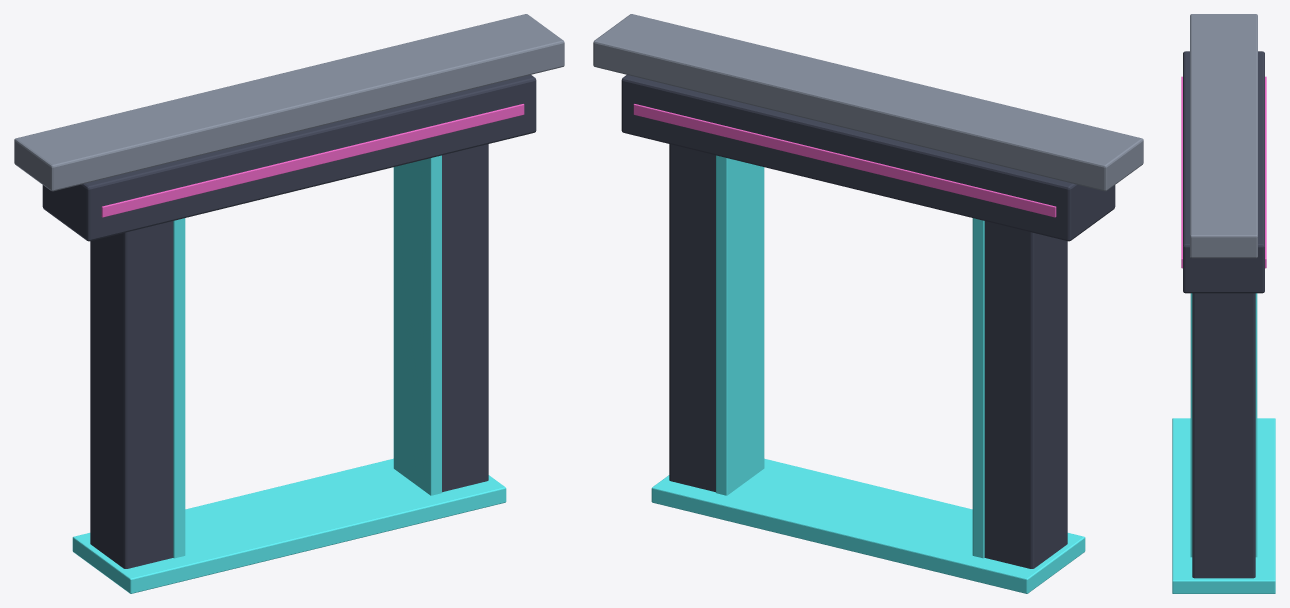
Rendered from Goal_Portal.fbx.
3 renders of one model, left to right at view 1: azimuth 30°, elevation 25°; view 2: azimuth 150°, elevation 25°; view 3: azimuth 270°, elevation 25°, orthographic. The views are drawn at different scales.
Parts seen in each view (by area): view 1: Portal_TopCrown, Portal_Pillar_-1, Portal_TopBeam, Portal_BaseThreshold, Portal_Trim_1, Portal_Pillar_1, Portal_TopNeon, Portal_Trim_-1; view 2: Portal_TopCrown, Portal_Pillar_-1, Portal_TopBeam, Portal_BaseThreshold, Portal_Trim_1, Portal_Pillar_1, Portal_TopNeon, Portal_Trim_-1; view 3: Portal_Pillar_1, Portal_TopCrown, Portal_BaseThreshold, Portal_TopBeam, Portal_Trim_1, Portal_TopNeon.
Boxes of the visible parts, box(x1,y1,x2,y2) form: Portal_TopCrown: box(14, 14, 564, 191); Portal_Pillar_-1: box(90, 221, 173, 568); Portal_TopBeam: box(42, 75, 536, 241); Portal_BaseThreshold: box(72, 458, 506, 593); Portal_Trim_1: box(393, 155, 441, 495); Portal_Pillar_1: box(442, 144, 488, 492); Portal_TopNeon: box(101, 104, 524, 217); Portal_Trim_-1: box(173, 218, 185, 558); Portal_TopCrown: box(593, 14, 1143, 191); Portal_Pillar_-1: box(984, 221, 1067, 568); Portal_TopBeam: box(621, 75, 1115, 241); Portal_BaseThreshold: box(651, 458, 1085, 593); Portal_Trim_1: box(716, 155, 764, 495); Portal_Pillar_1: box(669, 144, 715, 492); Portal_TopNeon: box(633, 104, 1056, 217); Portal_Trim_-1: box(972, 218, 984, 558); Portal_Pillar_1: box(1192, 293, 1255, 578); Portal_TopCrown: box(1190, 14, 1257, 258); Portal_BaseThreshold: box(1172, 418, 1275, 593); Portal_TopBeam: box(1183, 51, 1264, 293); Portal_Trim_1: box(1190, 293, 1257, 557); Portal_TopNeon: box(1181, 76, 1266, 268).
Bounding box in the file's own units: 11.2 × 9.13 × 2.2.
